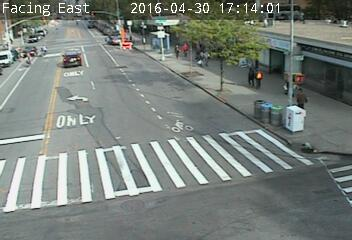neg: (297, 24, 333, 72), (277, 15, 299, 44), (203, 6, 224, 34), (103, 9, 121, 33), (146, 4, 161, 24), (68, 12, 80, 27)
pos: (293, 88, 312, 114), (251, 69, 267, 91), (243, 65, 258, 85), (179, 37, 194, 57), (171, 41, 184, 59), (37, 43, 48, 57)
